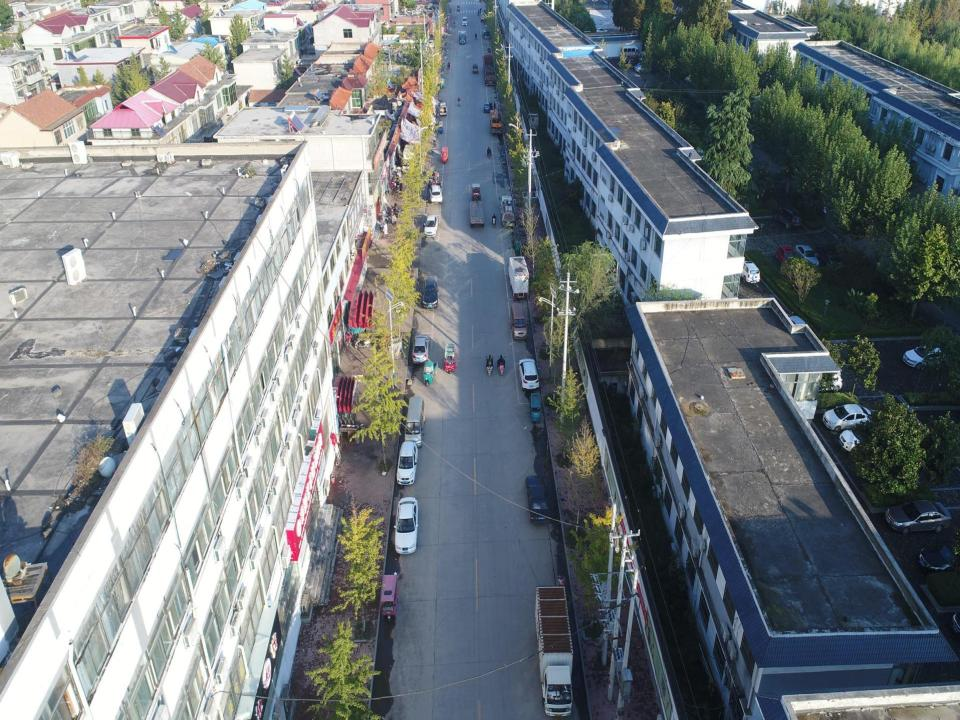car: (884, 498, 954, 536), (822, 399, 874, 433), (393, 496, 419, 556), (917, 536, 959, 572), (838, 421, 886, 451), (524, 472, 550, 524), (804, 361, 843, 393), (902, 341, 946, 368), (396, 442, 418, 486), (815, 240, 843, 268), (517, 356, 539, 391), (775, 204, 802, 231), (419, 275, 439, 311), (793, 243, 819, 269), (410, 333, 430, 364), (739, 256, 760, 284), (776, 243, 796, 269), (422, 214, 439, 238), (429, 186, 444, 210), (633, 61, 649, 73), (635, 64, 652, 75), (484, 100, 493, 112), (461, 16, 467, 27), (456, 5, 461, 11)
truck: (482, 50, 498, 88), (458, 30, 466, 44)
van: (404, 396, 426, 448), (508, 304, 530, 340), (400, 143, 416, 174), (620, 43, 640, 59), (439, 101, 448, 115)
